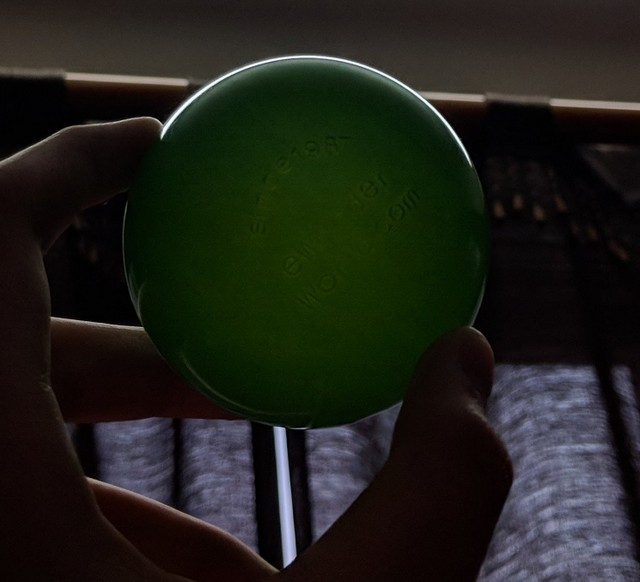ball: (118, 54, 490, 431)
